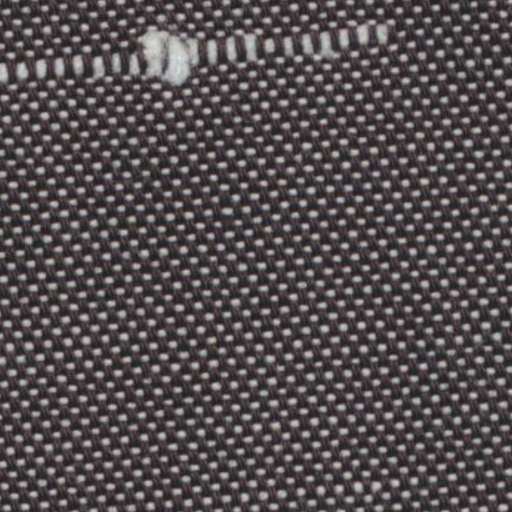DaiSha: (5, 22, 397, 82)
